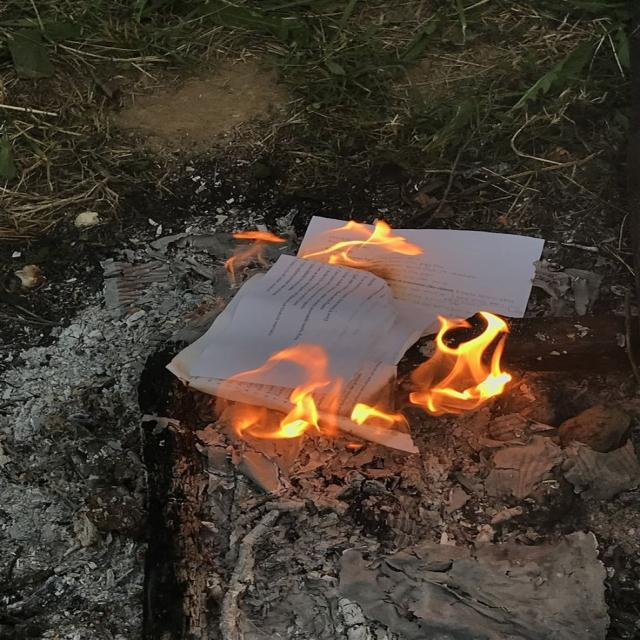fire: (215, 343, 340, 442), (406, 310, 512, 418), (297, 217, 422, 273), (349, 400, 407, 430)
